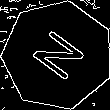N_SE: (25, 24, 90, 86)
